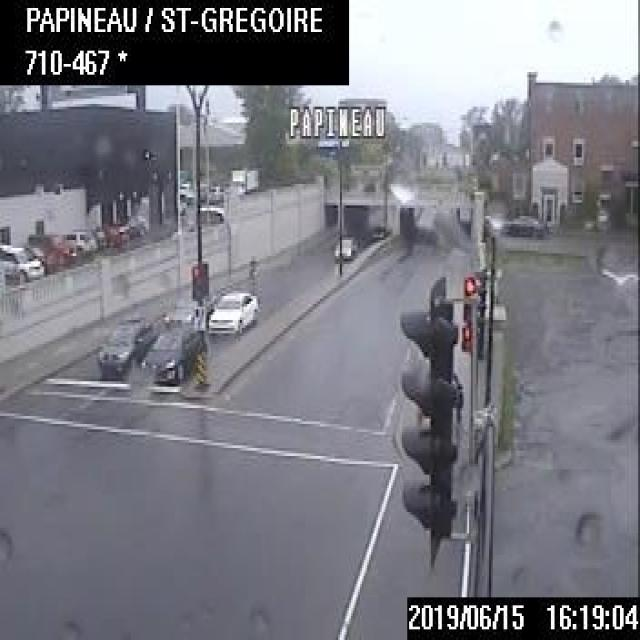vehicle: (138, 312, 206, 384), (94, 311, 154, 378), (205, 285, 259, 338), (0, 239, 44, 284), (496, 209, 550, 240), (55, 223, 97, 259), (228, 165, 260, 195), (331, 234, 356, 258)
